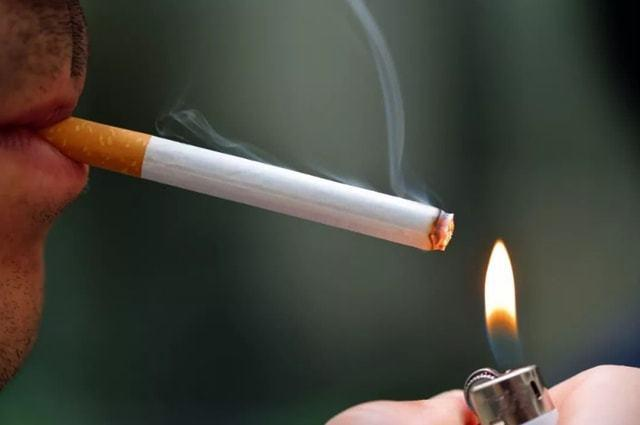smoke: (33, 110, 456, 253)
